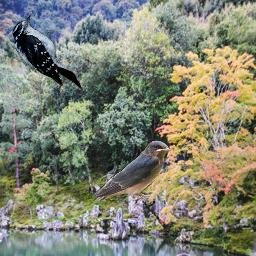Swallow: (91, 140, 171, 205)
Woodpecker: (11, 15, 83, 89)
